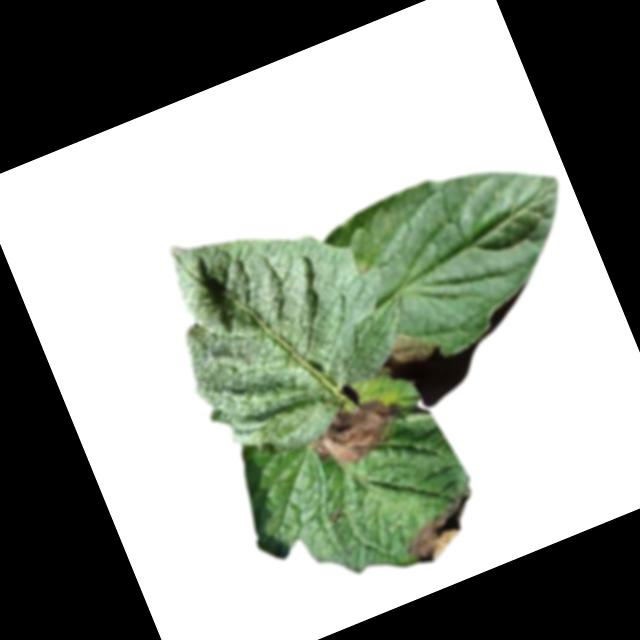Late_blight: (297, 382, 416, 479), (395, 488, 490, 569), (367, 319, 442, 378), (323, 507, 343, 524)
healthy: (137, 172, 437, 476)
